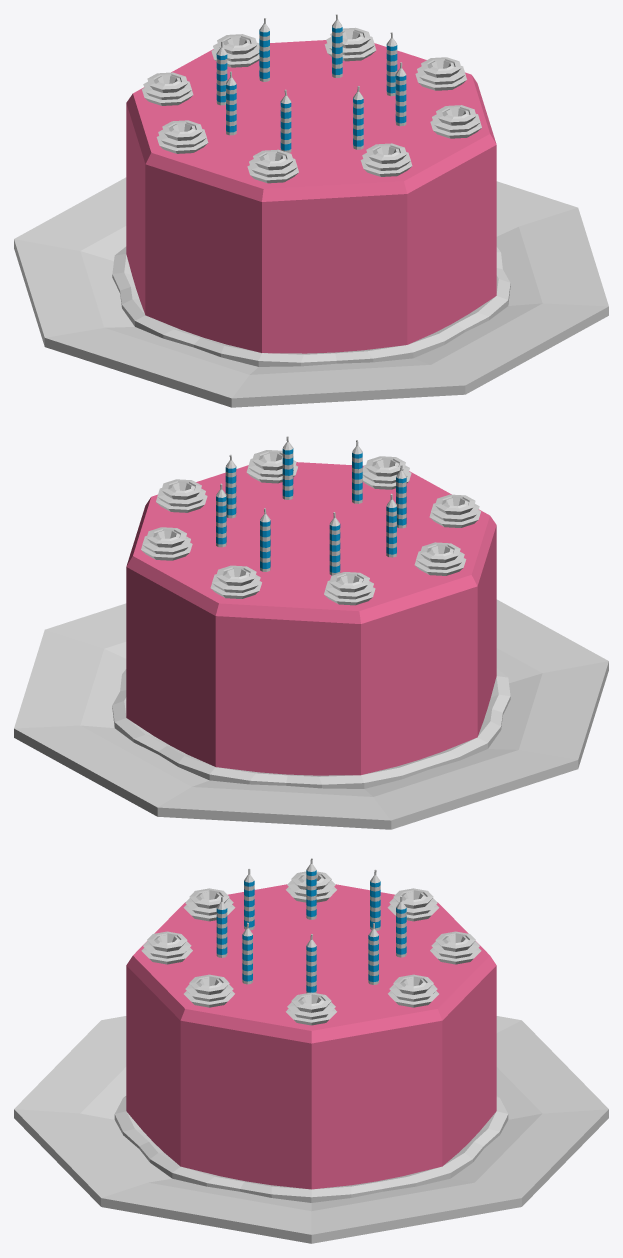
Rendered from Cake_01.2ff49468.glb.
3 renders of one model, top to bottom at view 1: azimuth 30°, elevation 25°; view 2: azimuth 150°, elevation 25°; view 3: azimuth 270°, elevation 25°, orthographic. The views are drawn at different scales.
Parts seen in each view (by area): view 1: node-0; view 2: node-0; view 3: node-0.
Boxes of the visible parts, x1,y1,x2,y2 form: node-0: (14, 14, 608, 407); node-0: (14, 436, 608, 829); node-0: (14, 858, 608, 1243).
Size of the model in its own units: 21.8 by 9.92 by 21.8.
